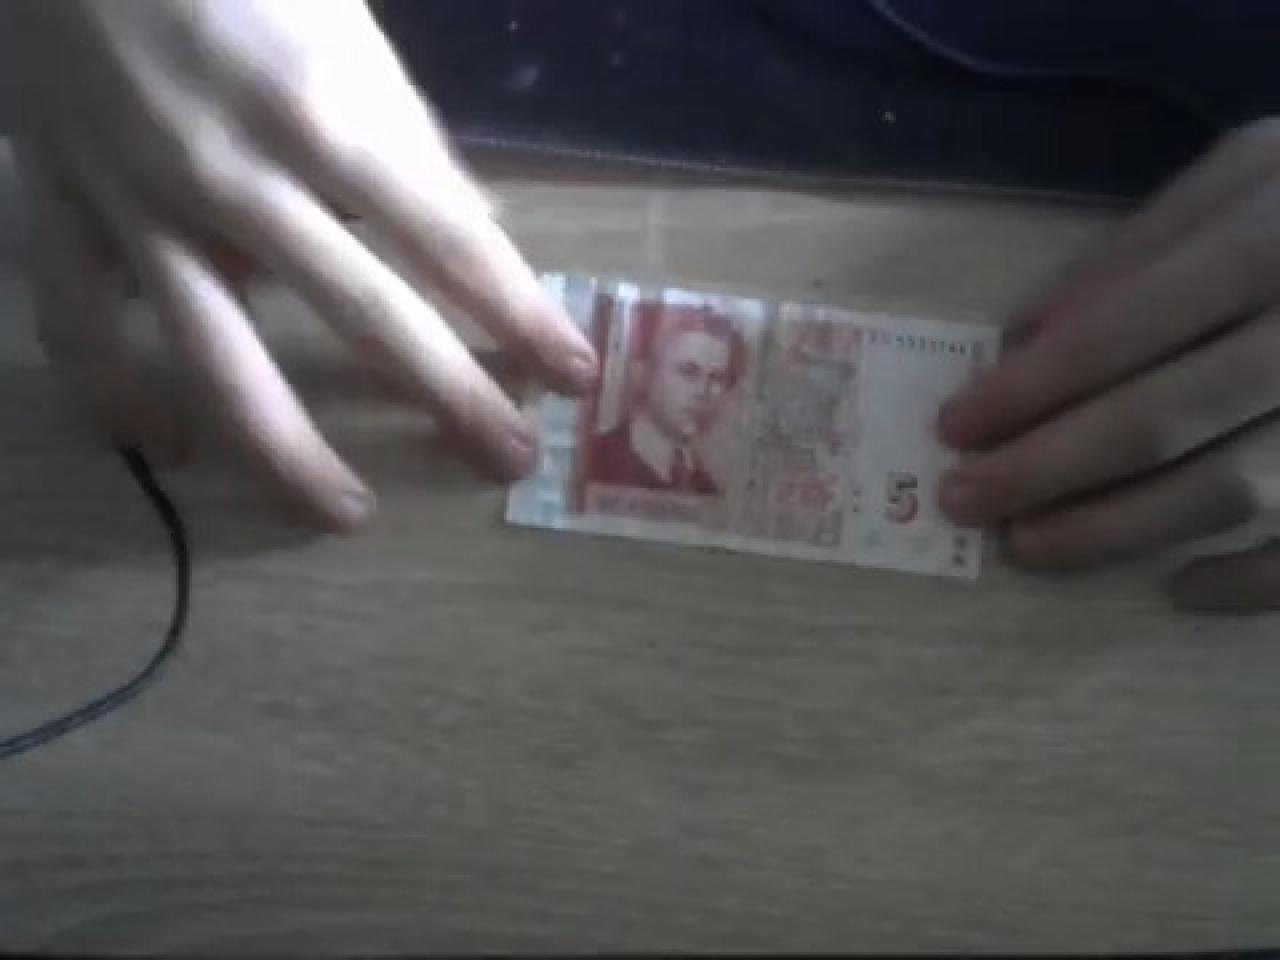5leva: (504, 272, 995, 584)
